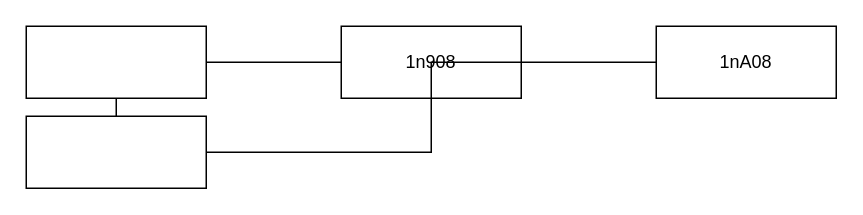
Image size: 863x215. Some labels were removed from this diagram. The shapes that lost their labels are listed below. From the top down, each one's centre as x and y in pixels, then its label:
At point (115, 61): "I母BP母线保护柜/1YD:11".
At point (115, 151): "I母BP母线保护柜/1YD:12".
